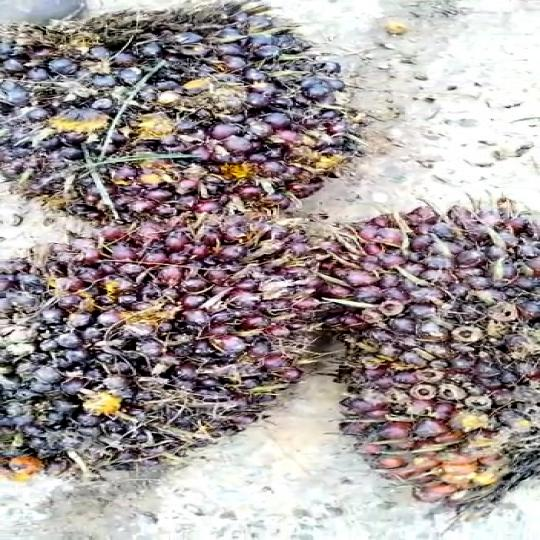kurang masak: (0, 220, 313, 476), (291, 200, 540, 516), (0, 0, 362, 209)
